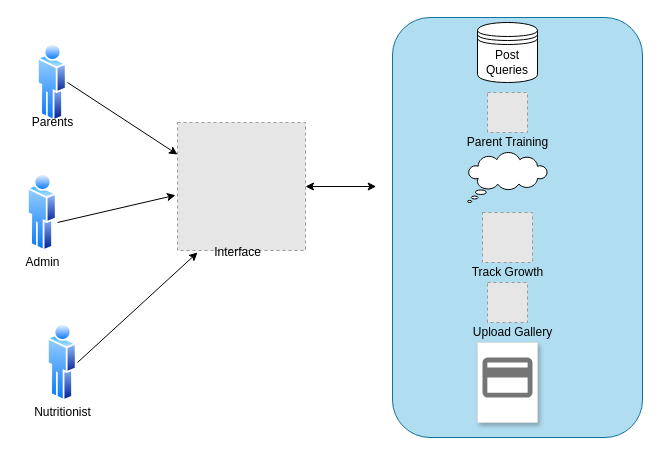
This 660x455 diagram has some shape labels left out. Grey dashed boxes stand in for pictures. Each missing label, with the centre of its shape:
Payment: (x=508, y=384)
receive diet tips: (x=507, y=177)
